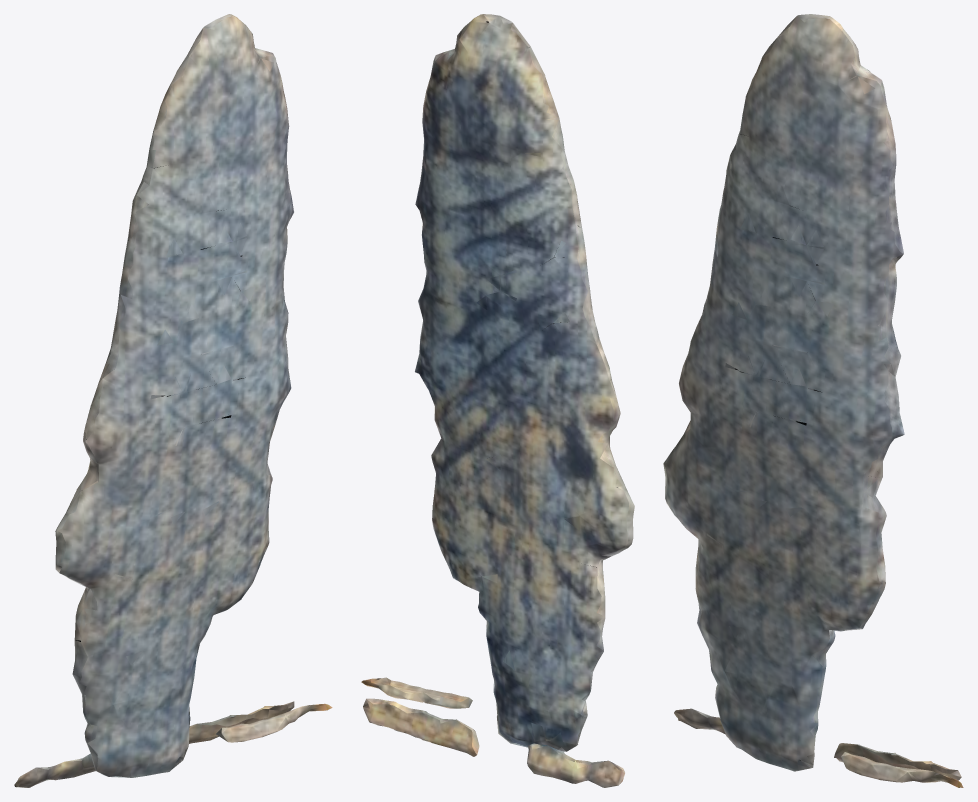
File: skillex.glb
The picture shows the model from 3 angles, left to right: view 1: azimuth 30°, elevation 25°; view 2: azimuth 150°, elevation 25°; view 3: azimuth 330°, elevation 25°; orthographic projection. The views are drawn at different scales.
Visible parts, largest first — view 1: world; view 2: world; view 3: world.
Part boxes in pixels (left/top/right/bottom): world: left=14, top=14, right=332, bottom=787; world: left=361, top=14, right=634, bottom=787; world: left=663, top=14, right=963, bottom=787.
Bounding box in the file's own units: 0.391 × 0.9516 × 0.1189.
Materials: 1 (1 with a texture image).
